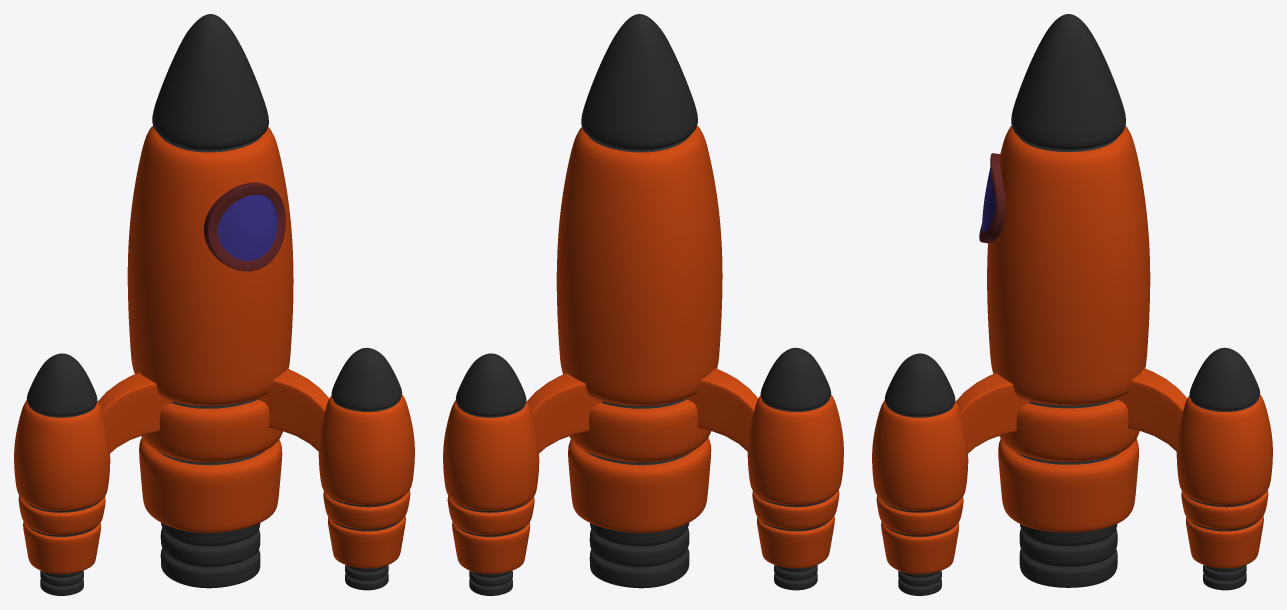
Rendered from rocket.fbx.
3 views of the same model, side by side, from view 1: azimuth 30°, elevation 25°; view 2: azimuth 150°, elevation 25°; view 3: azimuth 270°, elevation 25° (orthographic).
Visible parts, largest first — view 1: Circle; view 2: Circle; view 3: Circle.
Part boxes in pixels (x1,y1,x2,y2): Circle: [14, 14, 414, 595]; Circle: [443, 14, 843, 595]; Circle: [872, 14, 1272, 595].
Size of the model in its own units: 402 by 670 by 440.
